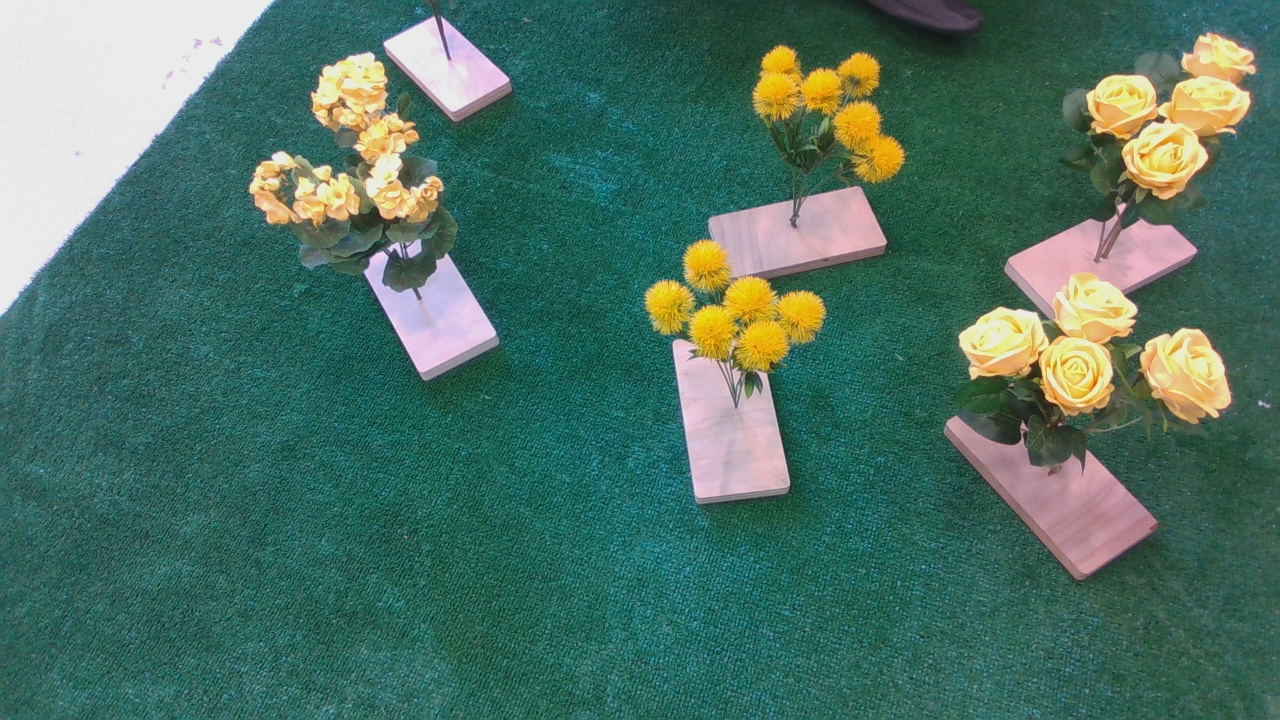dandelion: (637, 238, 852, 382), (749, 44, 928, 195)
geranium: (254, 54, 471, 288)
rose: (941, 270, 1244, 461), (1063, 24, 1265, 228)
